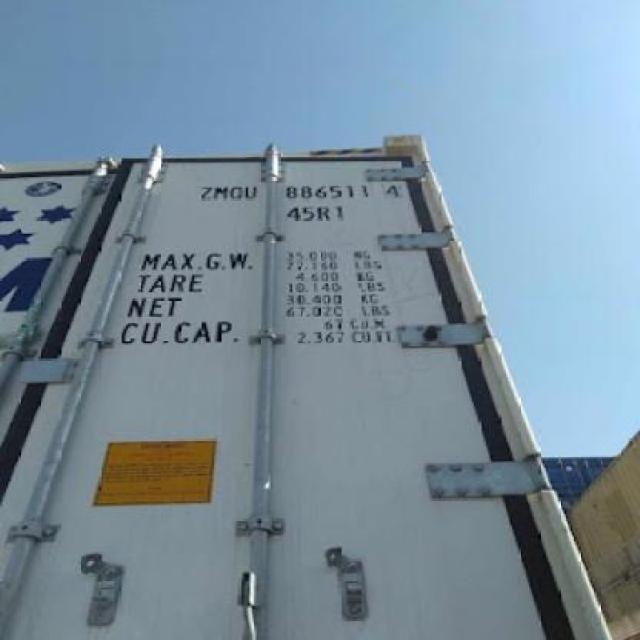ISO: (288, 204, 348, 222)
container_number: (207, 183, 411, 202)
